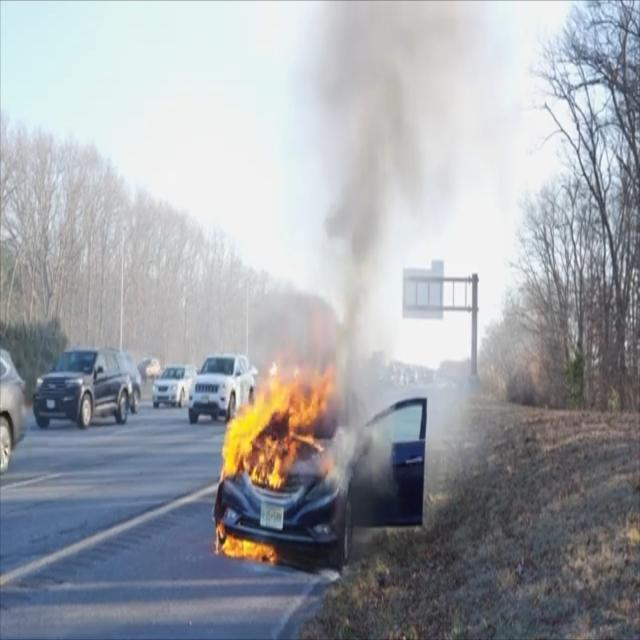fire: (212, 358, 340, 560)
